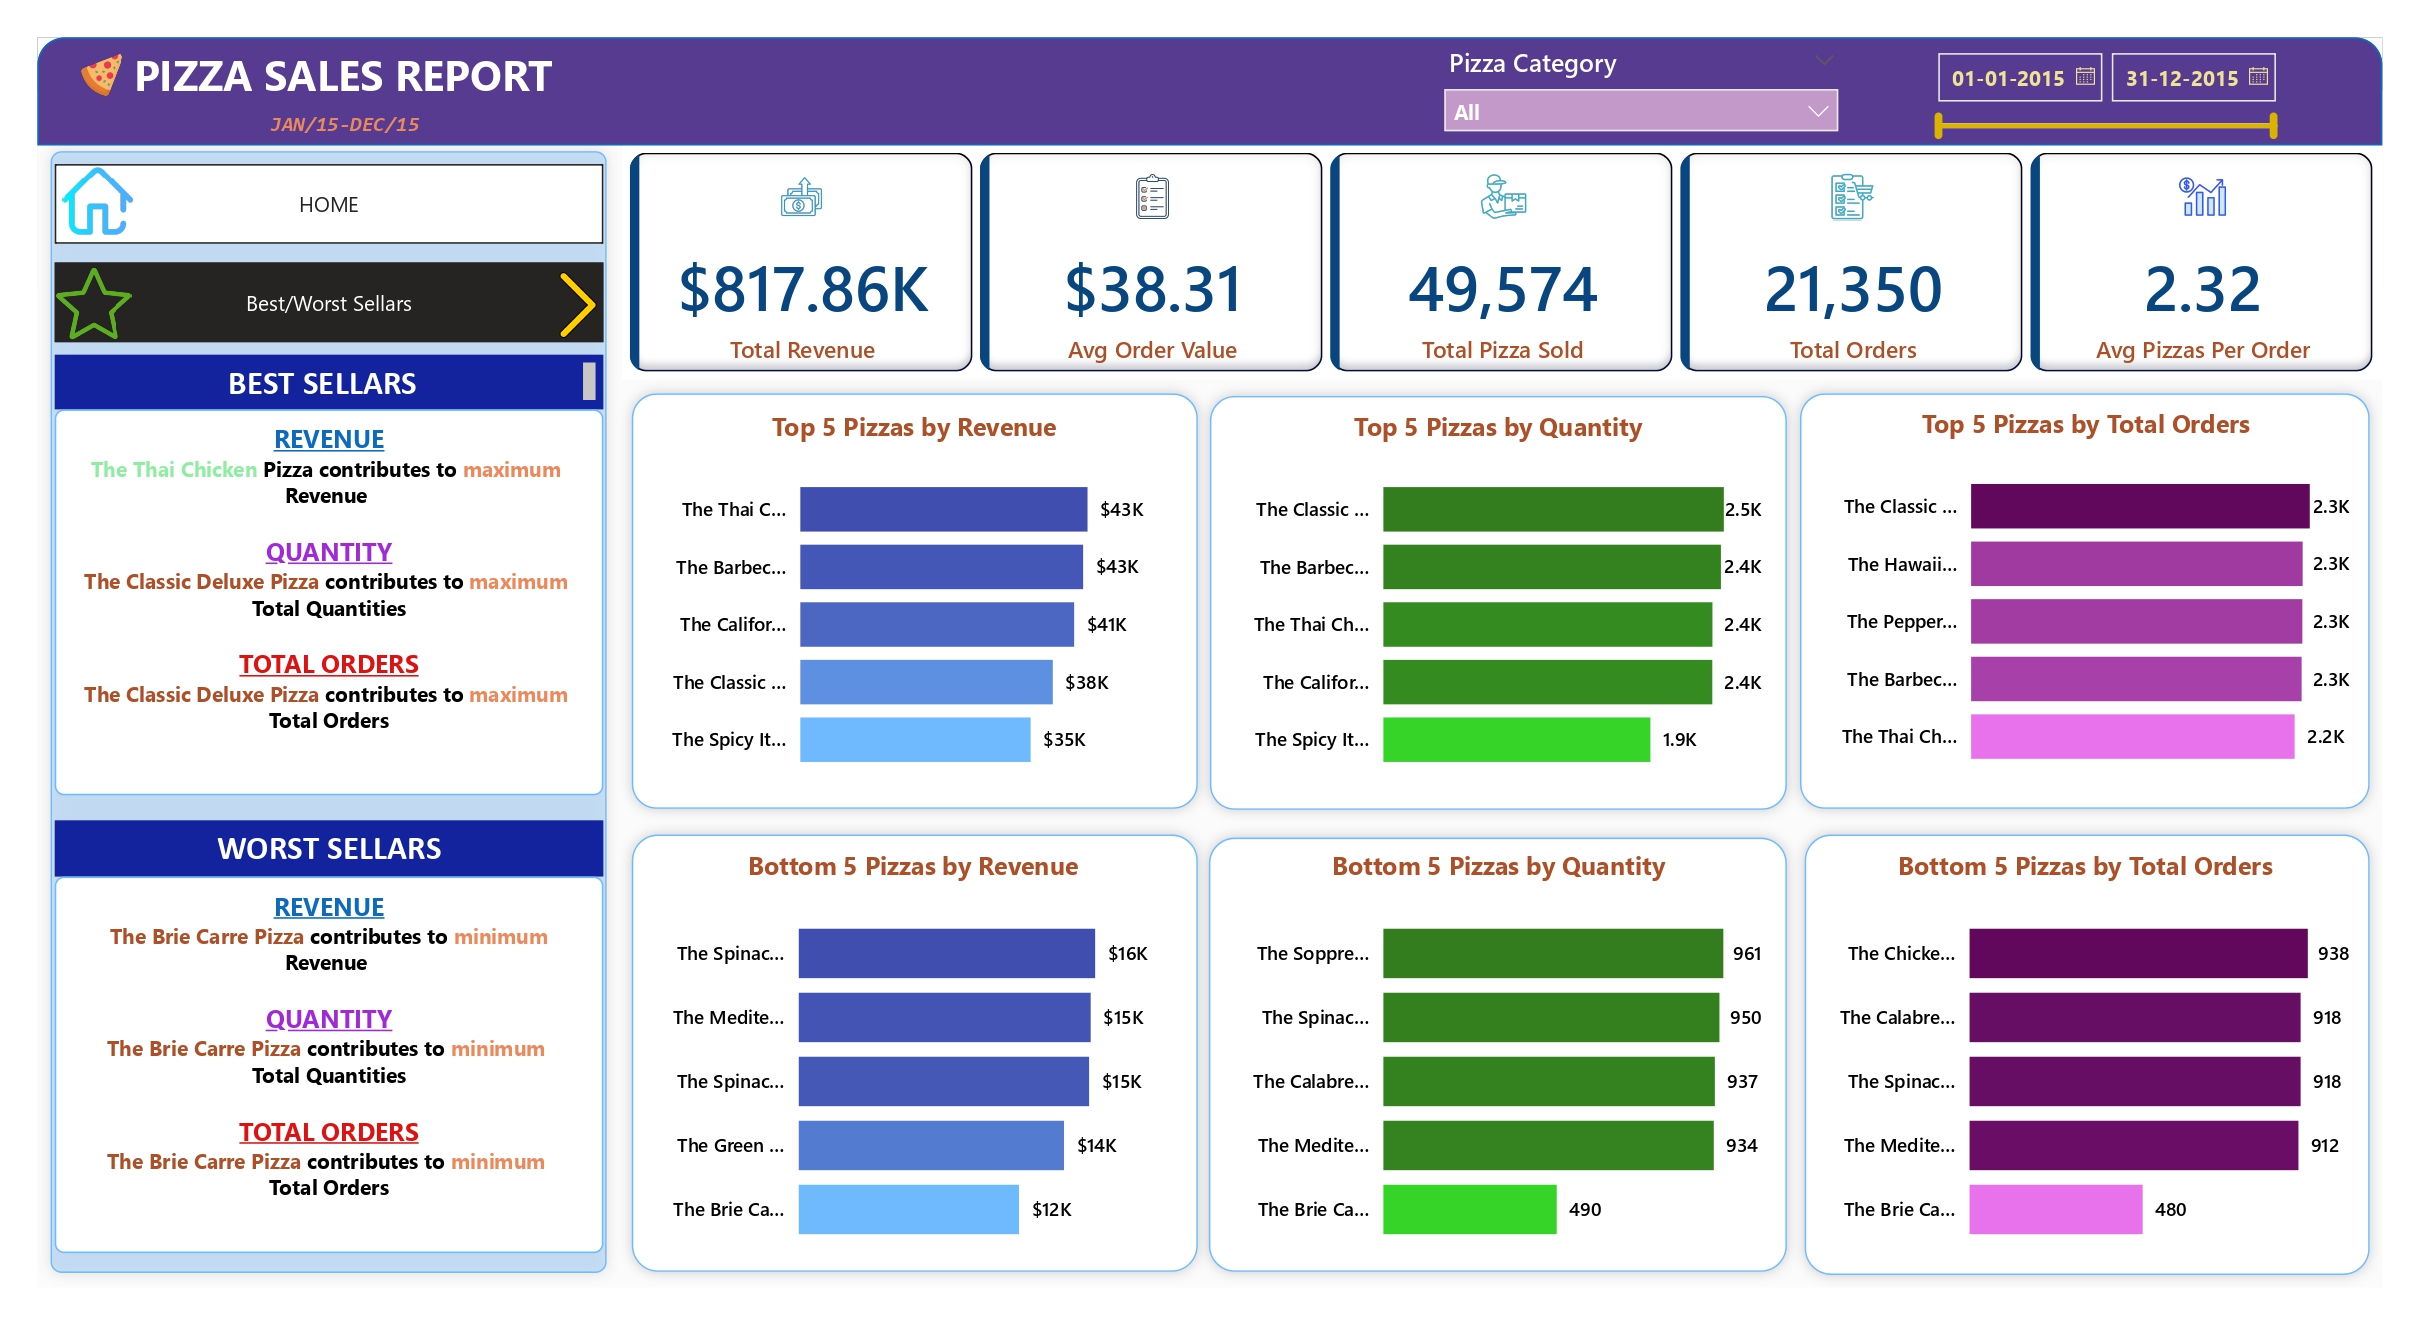

What the dashboard file says about the page in this screenshot:
{"tool":"powerbi","page":{"name":"Best/Worst Sellars","canvas":[1500,800],"ordinal":1},"visuals":[{"type":"shape","box":[0,65,371.8,733.9],"z":0},{"type":"cardVisual","fields":{"Data":["pizza_sales.Total Revenue","pizza_sales.Avg Order Value","pizza_sales.Total Pizza Sold","pizza_sales.Total Orders","pizza_sales.Avg Pizzas Per Order"]},"box":[374.2,68.6,1126.1,150.4],"z":1000},{"type":"textbox","box":[10.9,203,351.6,35.4],"z":2000},{"type":"shape","box":[0,0,1500.2,68.6],"z":3000},{"type":"textbox","box":[46.9,0,297.2,46.9],"z":4000},{"type":"textbox","box":[135.9,40.9,121.5,36.1],"z":5000},{"type":"image","box":[15.6,4.8,49.3,38.5],"z":6000},{"type":"shape","box":[371.8,220.2,377.8,281.5],"z":7000},{"type":"textbox","box":[10.9,238.5,351.6,246.6],"z":8000},{"type":"textbox","box":[10.9,501.5,351.6,35.4],"z":9000},{"type":"textbox","box":[10.8,536.6,351.3,241.8],"z":10000},{"type":"slicer","fields":{"Values":["pizza_sales.pizza_category"]},"box":[889.8,0,272.5,65.4],"z":11000},{"type":"slicer","fields":{"Values":["pizza_sales.order_date"]},"box":[1203.1,0,243,80.6],"z":12000},{"type":"shape","box":[742.3,221.4,385,280.3],"z":13000},{"type":"shape","box":[1118.9,220.2,381.4,281.5],"z":14000},{"type":"shape","box":[371.8,501.7,377.8,296],"z":15000},{"type":"shape","box":[741.1,504.1,386.2,293.6],"z":16000},{"type":"shape","box":[1122.5,501.7,377.8,298.4],"z":17000},{"type":"barChart","title":"Top 5 Pizzas by Revenue","fields":{"Category":["pizza_sales.pizza_name"],"Y":["pizza_sales.Total Revenue"]},"box":[389.7,238.5,342,245.3],"z":18000},{"type":"barChart","title":"Bottom 5 Pizzas by Revenue","fields":{"Category":["pizza_sales.pizza_name"],"Y":["pizza_sales.Total Revenue"]},"box":[388.4,519.2,343.4,268.4],"z":19000},{"type":"barChart","title":"Top 5 Pizzas by Quantity","fields":{"Category":["pizza_sales.pizza_name"],"Y":["pizza_sales.Total Pizza Sold"]},"box":[760.6,238,347.3,246],"z":20000},{"type":"barChart","title":"Bottom 5 Pizzas by Quantity","fields":{"Category":["pizza_sales.pizza_name"],"Y":["pizza_sales.Total Pizza Sold"]},"box":[760.6,519.4,347.3,268.5],"z":21000},{"type":"barChart","title":"Top 5 Pizzas by Total Orders","fields":{"Category":["pizza_sales.pizza_name"],"Y":["pizza_sales.Total Orders"]},"box":[1136.9,236.4,347.3,246],"z":22000},{"type":"barChart","title":"Bottom 5 Pizzas by Total Orders","fields":{"Category":["pizza_sales.pizza_name"],"Y":["pizza_sales.Total Orders"]},"box":[1136.4,519.2,347.5,268.4],"z":23000},{"type":"pageNavigator","box":[10.8,144.4,351.3,50.5],"z":24000},{"type":"image","box":[320,142,51.7,56.5],"z":25000},{"type":"image","box":[7.2,140.8,57.7,57.7],"z":26000},{"type":"pageNavigator","box":[10.8,80.6,351.3,51.7],"z":27000},{"type":"image","box":[10.8,77,55.3,55.3],"z":28000}]}

Visuals, with their boxes on the page's 1500x800 design canvas (x1, y1, x2, y2). These are canvas units, not pixel positions in the 2420x1325 screenshot, which may show the page scaled, cropped or inside an application window:
shape: x1=0 y1=65 x2=372 y2=799
cardVisual - pizza_sales.Total Revenue x pizza_sales.Avg Order Value: x1=374 y1=69 x2=1500 y2=219
textbox: x1=11 y1=203 x2=362 y2=238
shape: x1=0 y1=0 x2=1500 y2=69
textbox: x1=47 y1=0 x2=344 y2=47
textbox: x1=136 y1=41 x2=257 y2=77
image: x1=16 y1=5 x2=65 y2=43
shape: x1=372 y1=220 x2=750 y2=502
textbox: x1=11 y1=238 x2=362 y2=485
textbox: x1=11 y1=502 x2=362 y2=537
textbox: x1=11 y1=537 x2=362 y2=778
slicer - pizza_sales.pizza_category: x1=890 y1=0 x2=1162 y2=65
slicer - pizza_sales.order_date: x1=1203 y1=0 x2=1446 y2=81
shape: x1=742 y1=221 x2=1127 y2=502
shape: x1=1119 y1=220 x2=1500 y2=502
shape: x1=372 y1=502 x2=750 y2=798
shape: x1=741 y1=504 x2=1127 y2=798
shape: x1=1122 y1=502 x2=1500 y2=800
"Top 5 Pizzas by Revenue" barChart: x1=390 y1=238 x2=732 y2=484
"Bottom 5 Pizzas by Revenue" barChart: x1=388 y1=519 x2=732 y2=788
"Top 5 Pizzas by Quantity" barChart: x1=761 y1=238 x2=1108 y2=484
"Bottom 5 Pizzas by Quantity" barChart: x1=761 y1=519 x2=1108 y2=788
"Top 5 Pizzas by Total Orders" barChart: x1=1137 y1=236 x2=1484 y2=482
"Bottom 5 Pizzas by Total Orders" barChart: x1=1136 y1=519 x2=1484 y2=788
pageNavigator: x1=11 y1=144 x2=362 y2=195
image: x1=320 y1=142 x2=372 y2=198
image: x1=7 y1=141 x2=65 y2=198
pageNavigator: x1=11 y1=81 x2=362 y2=132
image: x1=11 y1=77 x2=66 y2=132
